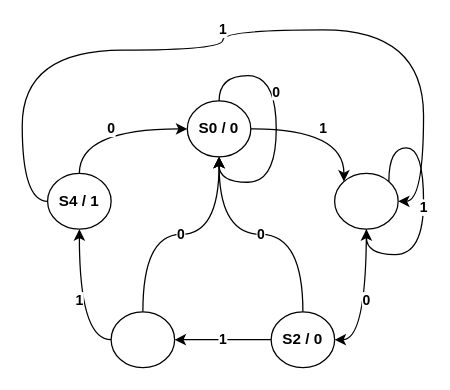
This 450x390 diagram has some shape labels left out. Each missing label, with the box of its shape:
S1 / 0: (333, 172, 398, 229)
S3 / 0: (110, 311, 175, 368)
